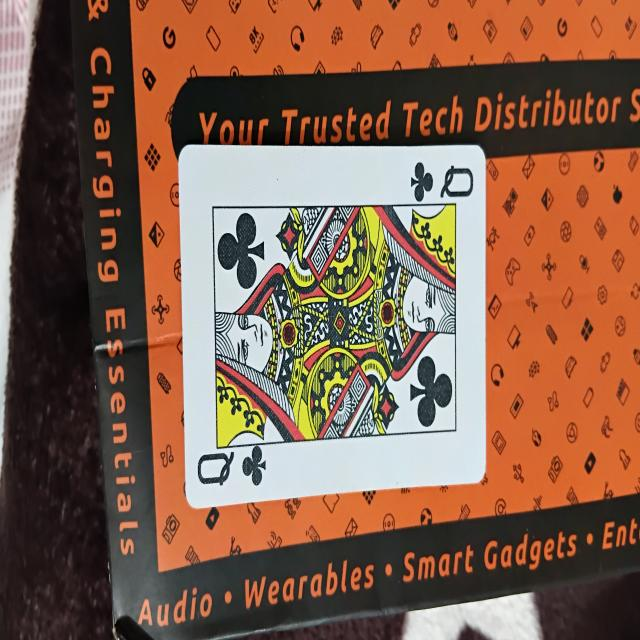QC: (178, 144, 486, 508)
